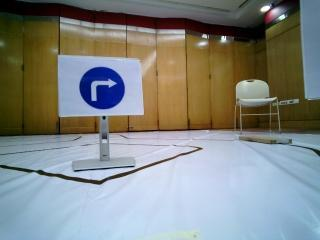right: (59, 57, 140, 114)
